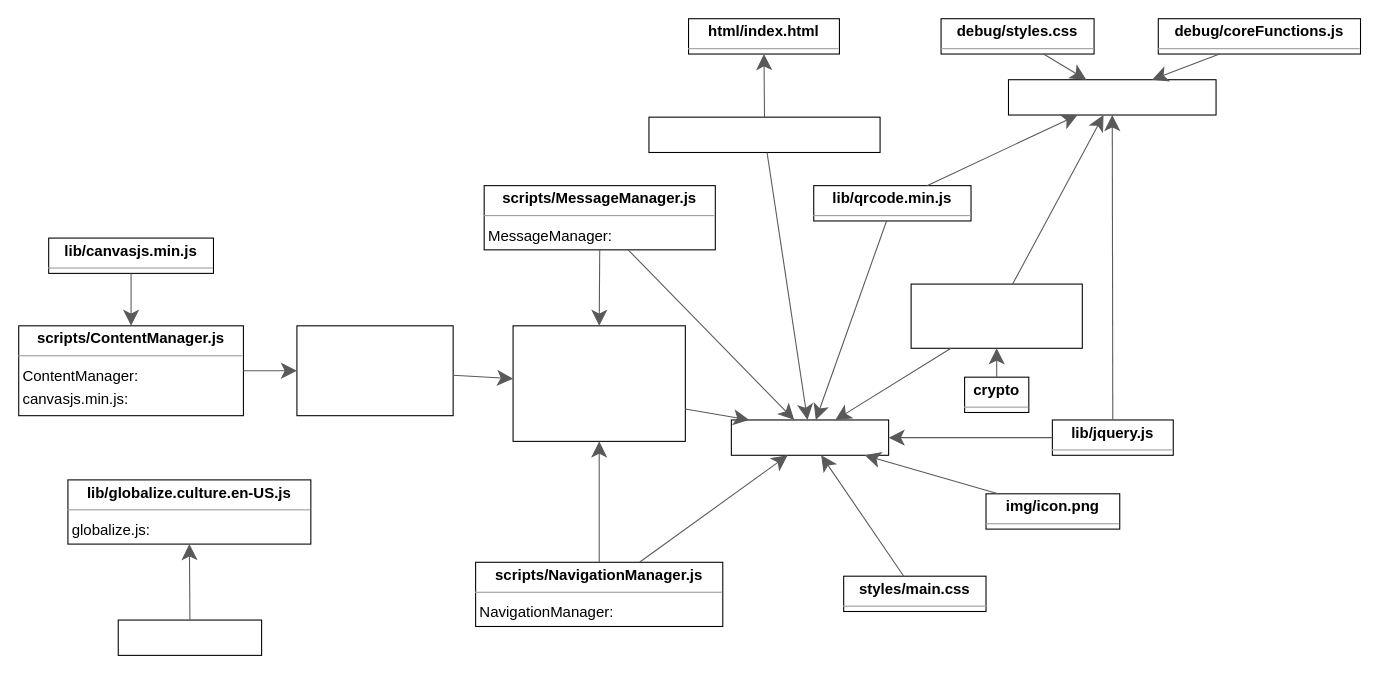
Some shapes in this 1379 by 674 pixel diagram are drawn without their labels. Each missing label, with the centre of its shape:
"css?family=Palette+Mosaic" goes at (x=764, y=134).
"debug/websockets.html" goes at (x=1111, y=97).
"html/admin.html" goes at (x=809, y=437).
"lib/crypto-js.min.js bt:" goes at (x=996, y=315).
"lib/globalize.js" goes at (x=189, y=637).
"scripts/Device.js ContentManager: Device:" goes at (x=374, y=370).
"scripts/main.js Device: MessageManager: NavigationManager:" goes at (x=598, y=383).
